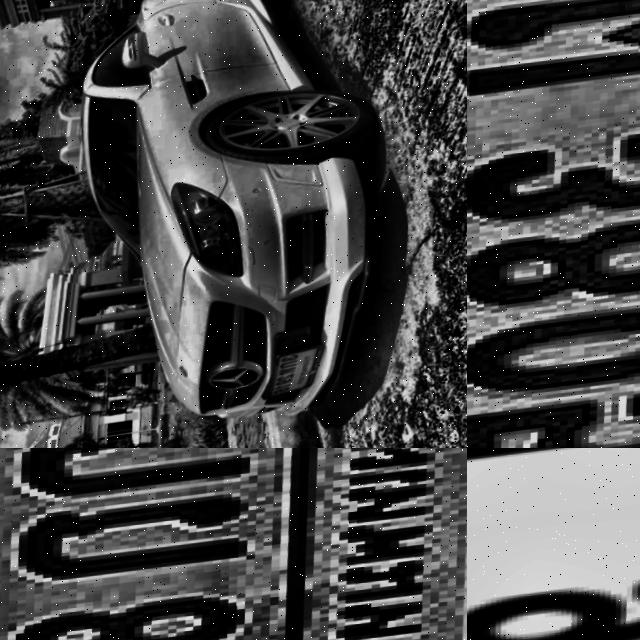license-plate: (0, 448, 467, 640), (467, 0, 640, 448), (467, 448, 640, 640), (269, 345, 341, 407)
